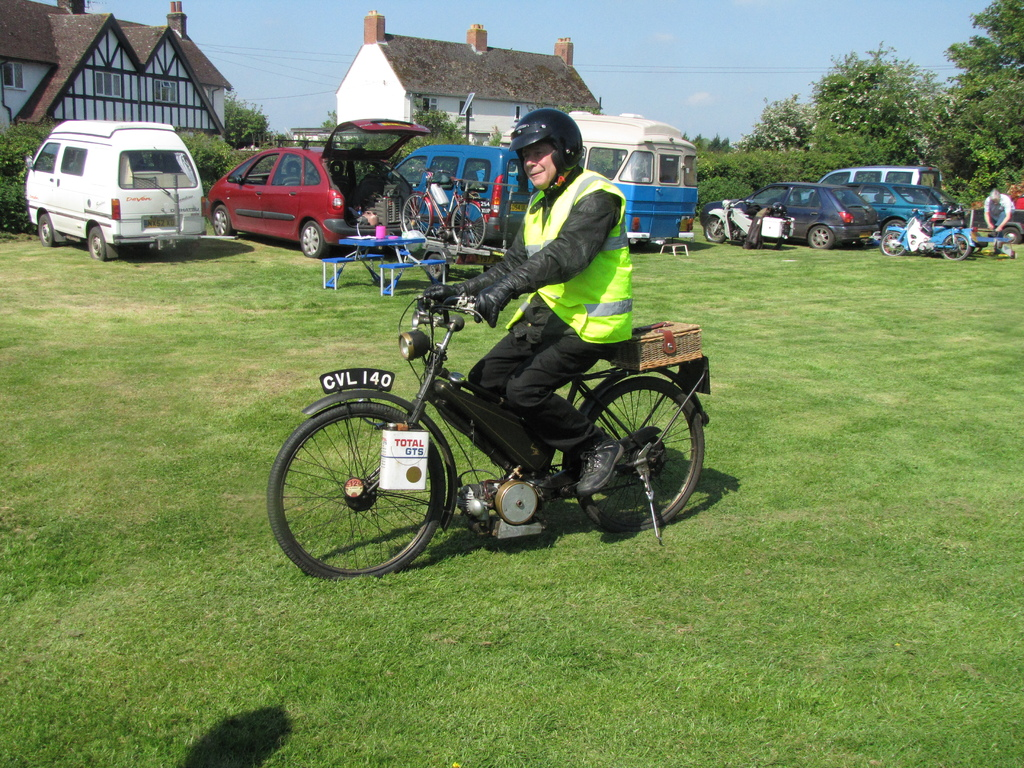Bike: (279, 281, 716, 581)
